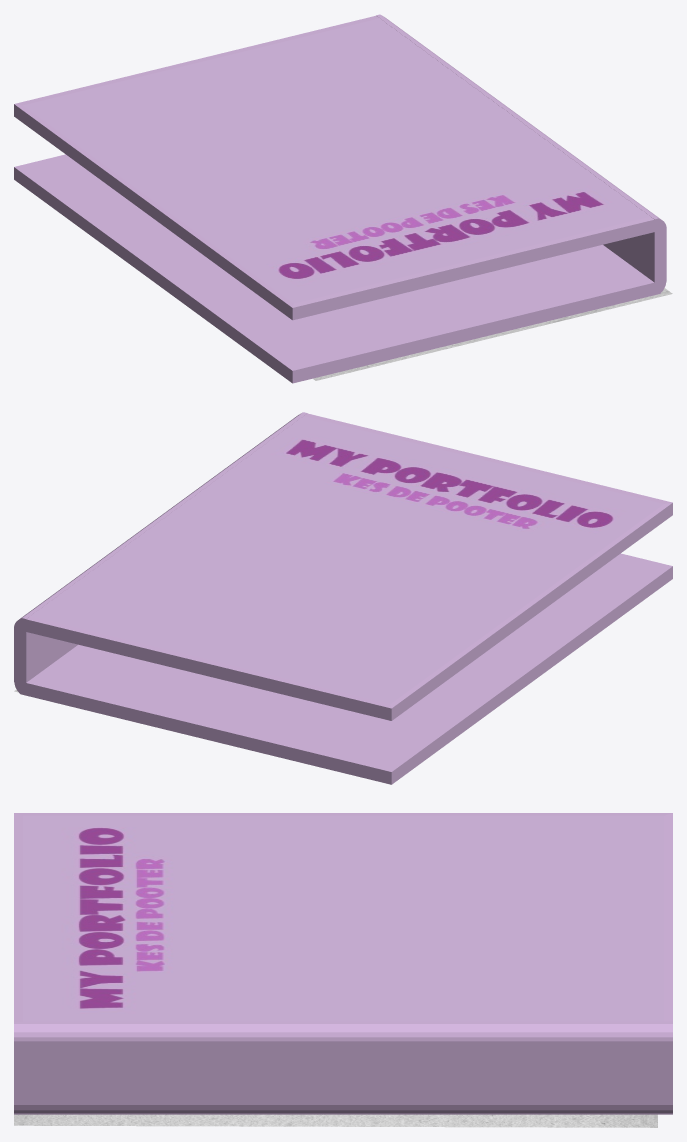
The model's file is animated.book2.glb.
3 renders of one model, top to bottom at view 1: azimuth 30°, elevation 25°; view 2: azimuth 150°, elevation 25°; view 3: azimuth 270°, elevation 25°, orthographic. The views are drawn at different scales.
Parts seen in each view (by area): view 1: left, right, Cube, Plane.028; view 2: left, right, Cube; view 3: left, Cube, Plane.028.
Part boxes in pixels (x1,y1,x2,y2): left: (14, 15, 654, 320); right: (14, 154, 654, 383); Cube: (376, 14, 666, 294); Plane.028: (313, 288, 672, 380); left: (26, 413, 672, 720); right: (26, 553, 672, 784); Cube: (14, 412, 307, 695); left: (14, 813, 672, 1021); Cube: (14, 1021, 672, 1114); Plane.028: (14, 1114, 657, 1127).
Size of the model in its own units: 1.58 by 0.3199 by 2.
3 materials, 2 textured.
